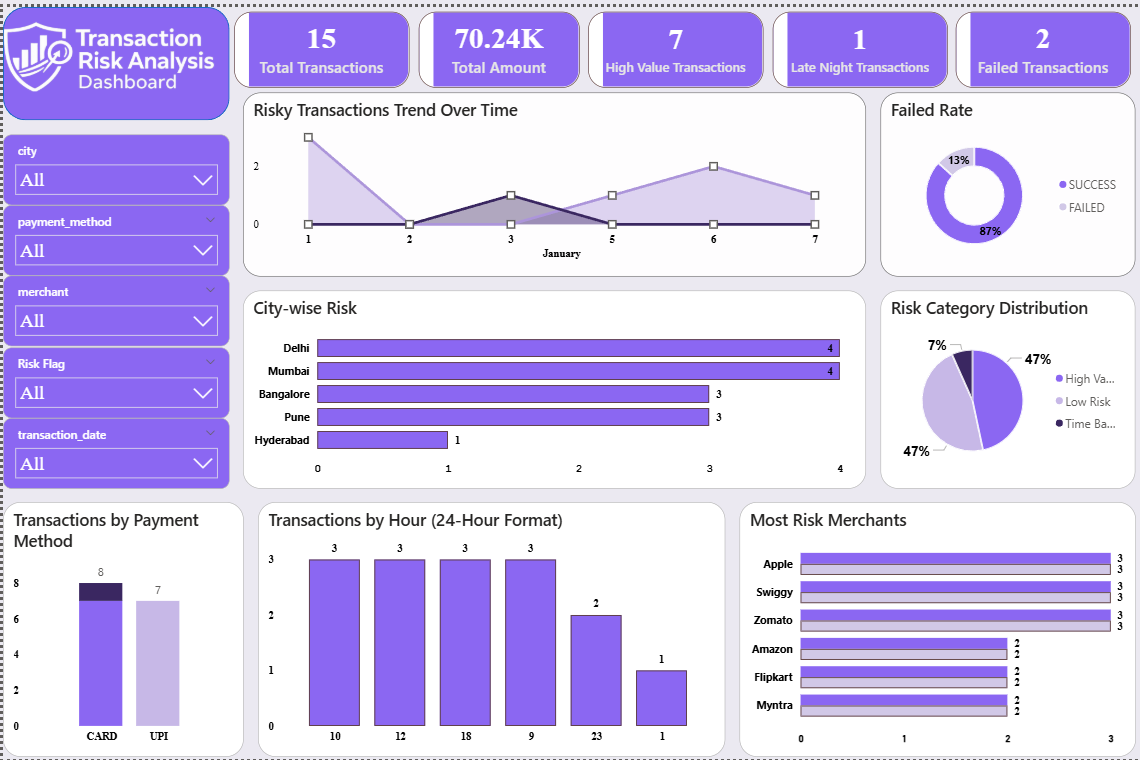

This screenshot's page, from the dashboard's own definition file:
{"tool":"powerbi","page":{"name":"Page 1","canvas":[1285,850],"ordinal":0},"visuals":[{"type":"shape","box":[0,0,256,128],"z":0},{"type":"cardVisual","fields":{"Data":["CountNonNull(public transactions.transaction_id)"]},"box":[256,0,208,96],"z":1000},{"type":"cardVisual","fields":{"Data":["Sum(public transactions.amount)"]},"box":[464,0,192,96],"z":2000},{"type":"cardVisual","fields":{"Data":["Count(public transactions.Is Failed)"]},"box":[1072,0,208,96],"z":3000},{"type":"cardVisual","fields":{"Data":["Sum(public transactions.Late Night)"]},"box":[864,0,208,96],"z":4000},{"type":"cardVisual","fields":{"Data":["Sum(public transactions.High Value)"]},"box":[656,0,208,96],"z":5000},{"type":"pieChart","title":"Risk Category Distribution","fields":{"Category":["public transactions.Risk Flag"],"Y":["CountNonNull(public transactions.Risk Flag)"]},"box":[992,320,288,224],"z":6000},{"type":"clusteredColumnChart","title":"Transactions by Hour (24-Hour Format) ","fields":{"Category":["public transactions.Txn_Hour"],"Y":["Count(public transactions.transaction_id)"]},"box":[288,560,528,288],"z":7000},{"type":"columnChart","title":"Transactions by Payment Method","fields":{"Series":["public transactions.Risk Flag"],"Y":["Count(public transactions.transaction_id)"],"Category":["public transactions.payment_method"]},"box":[0,560,272,288],"z":8000},{"type":"clusteredBarChart","title":"Most Risk Merchants","fields":{"Category":["public transactions.merchant"],"Y":["CountNonNull(public transactions.Is Failed)","CountNonNull(public transactions.High Value)"]},"box":[832,560,448,288],"z":9000},{"type":"donutChart","title":"Failed Rate","fields":{"Y":["CountNonNull(public transactions.status)"],"Category":["public transactions.status"]},"box":[992,96,288,208],"z":10000},{"type":"clusteredBarChart","title":"City-wise Risk","fields":{"Category":["public customers.city"],"Y":["CountNonNull(public transactions.Risk Flag)"]},"box":[272,320,704,224],"z":11000},{"type":"lineChart","title":"Risky Transactions Trend Over Time","fields":{"Y":["Sum(public transactions.High Value)","Sum(public transactions.Late Night)"],"Category":["public transactions.Txn_Date.Variation.Date Hierarchy.Month","public transactions.Txn_Date.Variation.Date Hierarchy.Day"]},"box":[272,96,704,208],"z":12000},{"type":"image","box":[0,0,240,112],"z":13000},{"type":"slicer","fields":{"Values":["public transactions.payment_method"]},"box":[0,224,256,80],"z":14000},{"type":"slicer","fields":{"Values":["public transactions.city"]},"box":[0,144,256,80],"z":15000},{"type":"slicer","fields":{"Values":["public transactions.merchant"]},"box":[0,304,256,80],"z":16000},{"type":"slicer","fields":{"Values":["public transactions.Risk Flag"]},"box":[0,384,256,80],"z":17000},{"type":"slicer","fields":{"Values":["public transactions.transaction_date"]},"box":[0,464,256,80],"z":18000}]}

Visuals, with their boxes in screenshot pixels (x1, y1, x2, y2), scaled from the page's 1285x850 canvas onto the 1140x760 screenshot:
shape: 0 0 227 114
cardVisual - CountNonNull(public transactions.transaction_id): 227 0 412 86
cardVisual - Sum(public transactions.amount): 412 0 582 86
cardVisual - Count(public transactions.Is Failed): 951 0 1136 86
cardVisual - Sum(public transactions.Late Night): 767 0 951 86
cardVisual - Sum(public transactions.High Value): 582 0 767 86
"Risk Category Distribution" pieChart: 880 286 1136 486
"Transactions by Hour (24-Hour Format) " clusteredColumnChart: 256 501 724 758
"Transactions by Payment Method" columnChart: 0 501 241 758
"Most Risk Merchants" clusteredBarChart: 738 501 1136 758
"Failed Rate" donutChart: 880 86 1136 272
"City-wise Risk" clusteredBarChart: 241 286 866 486
"Risky Transactions Trend Over Time" lineChart: 241 86 866 272
image: 0 0 213 100
slicer - public transactions.payment_method: 0 200 227 272
slicer - public transactions.city: 0 129 227 200
slicer - public transactions.merchant: 0 272 227 343
slicer - public transactions.Risk Flag: 0 343 227 415
slicer - public transactions.transaction_date: 0 415 227 486
